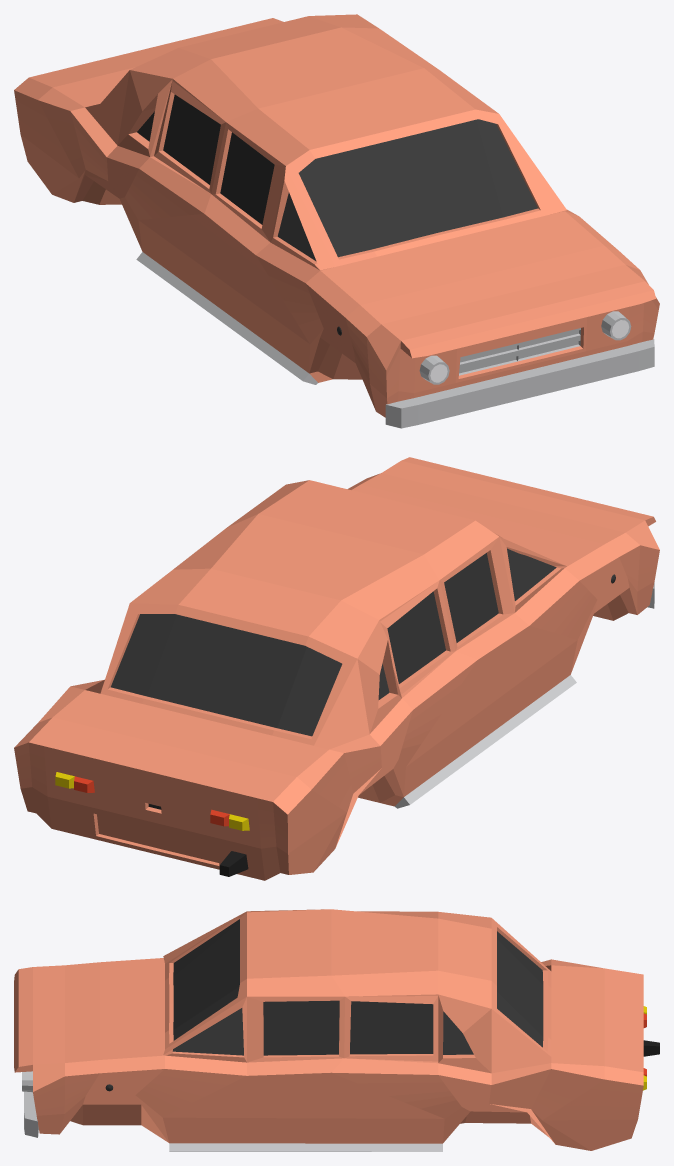
The model's file is car.fbx.
3 renders of one model, top to bottom at view 1: azimuth 30°, elevation 25°; view 2: azimuth 150°, elevation 25°; view 3: azimuth 270°, elevation 25°, orthographic. The views are drawn at different scales.
Visible parts, largest first — view 1: Body; view 2: Body; view 3: Body.
Part boxes in pixels (x1=…): Body: x1=14, y1=14, x2=659, y2=428; Body: x1=14, y1=457, x2=659, y2=880; Body: x1=14, y1=909, x2=646, y2=1151.
Size of the model in its own units: 213 by 143 by 524.
